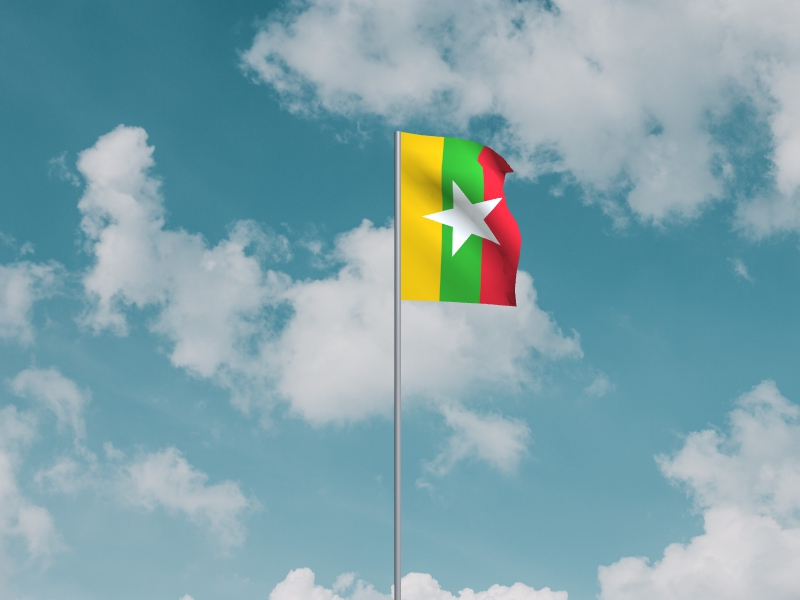mm: (401, 133, 523, 308)
